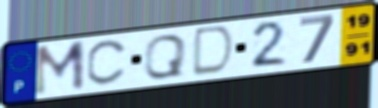2: (248, 19, 290, 72)
7: (296, 12, 338, 66)
C: (84, 38, 131, 88)
D: (189, 24, 237, 79)
M: (32, 38, 87, 99)
Q: (141, 33, 189, 81)
